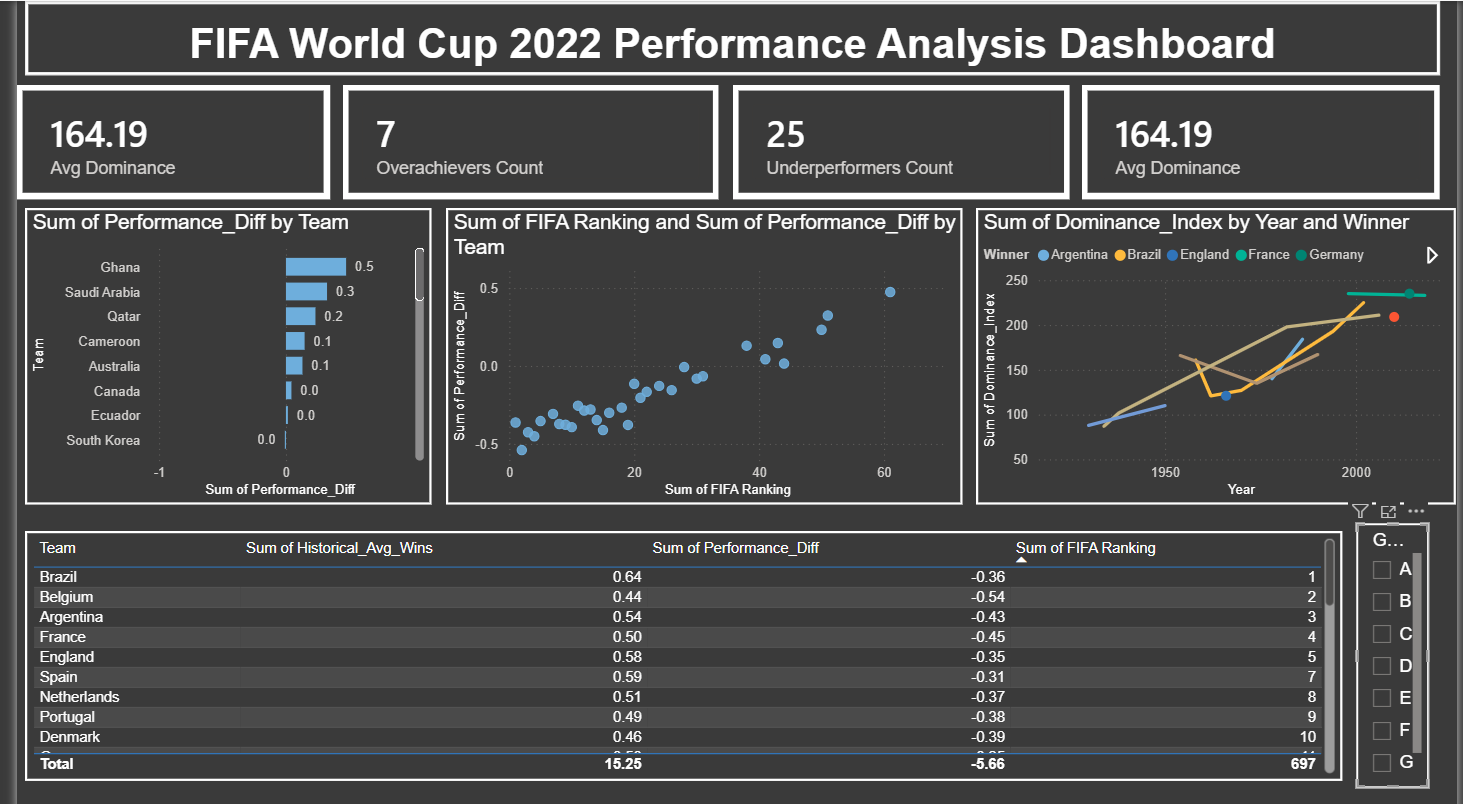

This screenshot's page, from the dashboard's own definition file:
{"tool":"powerbi","page":{"name":"Page 1","canvas":[1296,731],"ordinal":0},"visuals":[{"type":"textbox","box":[7.2,0,1273.8,66.6],"z":2000},{"type":"clusteredBarChart","fields":{"Category":["worldcup_clean.Team"],"Y":["Sum(worldcup_clean.Performance_Diff)"]},"box":[7.2,186.4,366.4,267.4],"z":3000},{"type":"scatterChart","fields":{"X":["Sum(worldcup_clean.FIFA Ranking)"],"Y":["Sum(worldcup_clean.Performance_Diff)"],"Category":["worldcup_clean.Team"]},"box":[386.2,186.4,464.5,267.4],"z":4000},{"type":"slicer","fields":{"Values":["worldcup_clean.Group"]},"box":[1205.4,469.9,65.7,238.6],"z":5000},{"type":"tableEx","fields":{"Values":["worldcup_clean.Team","Sum(worldcup_clean.Historical_Avg_Wins)","Sum(worldcup_clean.Performance_Diff)","Sum(worldcup_clean.FIFA Ranking)"]},"box":[7.3,477.3,1185.6,224.6],"z":6000},{"type":"lineChart","fields":{"Category":["winner_stats.Year"],"Y":["Sum(winner_stats.Dominance_Index)"],"Series":["winner_stats.Winner"]},"box":[863.7,186.4,431.9,267.3],"z":7000},{"type":"cardVisual","fields":{"Data":["winner_stats.Avg Dominance"]},"box":[0,75.6,281.8,102.6],"z":7001},{"type":"cardVisual","fields":{"Data":["worldcup_clean.Underperformers Count"]},"box":[644.6,75.6,303.4,102.6],"z":7002},{"type":"cardVisual","fields":{"Data":["worldcup_clean.Overachievers Count"]},"box":[293.5,75.6,338.5,102.6],"z":7003},{"type":"cardVisual","fields":{"Data":["winner_stats.Avg Dominance"]},"box":[958.8,75.6,322.3,102.6],"z":7004}]}

Visuals, with their boxes in screenshot pixels (x1, y1, x2, y2), scaled from the page's 1296x731 canvas onto the 1463x804 screenshot:
textbox: BBox(8, 0, 1446, 73)
clusteredBarChart - worldcup_clean.Team x Sum(worldcup_clean.Performance_Diff): BBox(8, 205, 422, 499)
scatterChart - Sum(worldcup_clean.FIFA Ranking) x Sum(worldcup_clean.Performance_Diff): BBox(436, 205, 960, 499)
slicer - worldcup_clean.Group: BBox(1361, 517, 1435, 779)
tableEx - worldcup_clean.Team x Sum(worldcup_clean.Historical_Avg_Wins): BBox(8, 525, 1347, 772)
lineChart - winner_stats.Year x Sum(winner_stats.Dominance_Index): BBox(975, 205, 1462, 499)
cardVisual - winner_stats.Avg Dominance: BBox(0, 83, 318, 196)
cardVisual - worldcup_clean.Underperformers Count: BBox(728, 83, 1070, 196)
cardVisual - worldcup_clean.Overachievers Count: BBox(331, 83, 713, 196)
cardVisual - winner_stats.Avg Dominance: BBox(1082, 83, 1446, 196)
